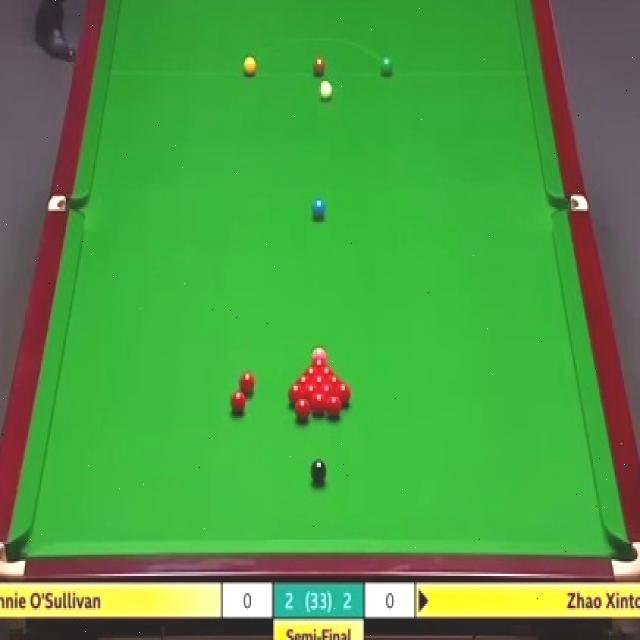black-ball: (310, 456, 326, 486)
blue-ball: (313, 199, 326, 222)
brown-ball: (316, 55, 329, 74)
green-ball: (380, 56, 393, 77)
pink-ball: (311, 342, 327, 361)
red-ball: (229, 391, 249, 417), (310, 392, 327, 417), (241, 369, 257, 394), (294, 399, 310, 424), (334, 383, 352, 404), (288, 383, 304, 405), (327, 397, 343, 419), (303, 383, 319, 399), (320, 385, 334, 403), (318, 367, 337, 378), (326, 375, 344, 386), (296, 376, 311, 387), (310, 357, 328, 366), (311, 376, 327, 386), (301, 367, 318, 376)
white-ball: (317, 77, 333, 103)
yellow-ball: (242, 54, 258, 77)
